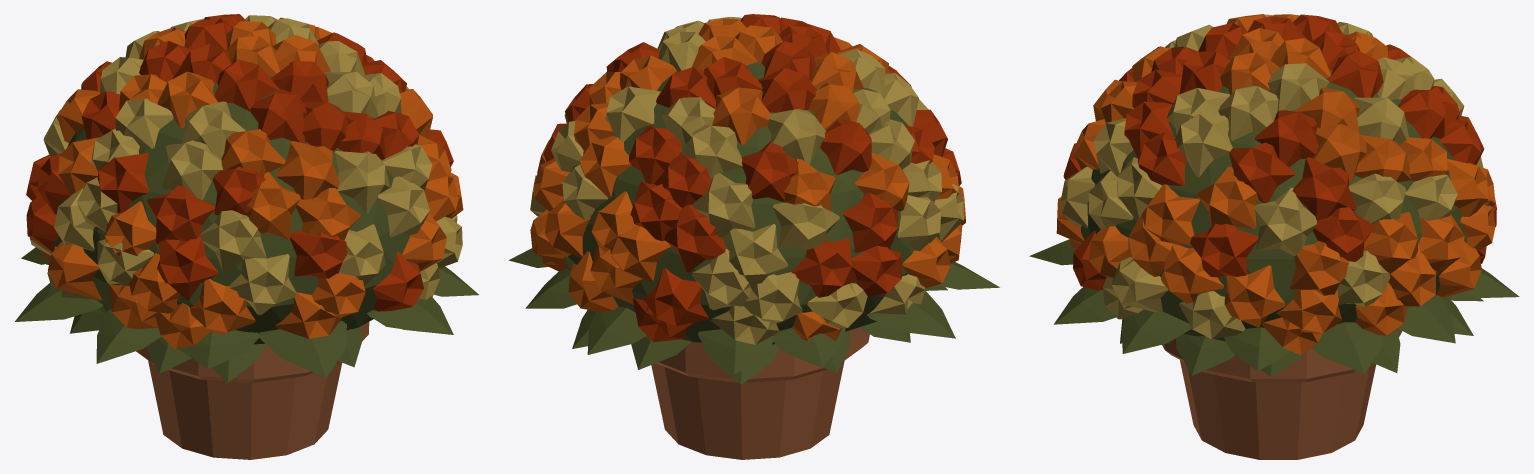
The model's file is potted-autumn-mums-08db8c.glb.
The picture shows the model from 3 angles, left to right: view 1: azimuth 30°, elevation 25°; view 2: azimuth 150°, elevation 25°; view 3: azimuth 270°, elevation 25°; orthographic projection.
Parts seen in each view (by area): view 1: potted-mums-body; view 2: potted-mums-body; view 3: potted-mums-body.
Boxes of the visible parts, x1,y1,x2,y2 form: potted-mums-body: (15,14,478,459); potted-mums-body: (508,14,999,459); potted-mums-body: (1029,14,1519,459).
Bounding box in the file's own units: 0.6926 × 0.6167 × 0.7038.
